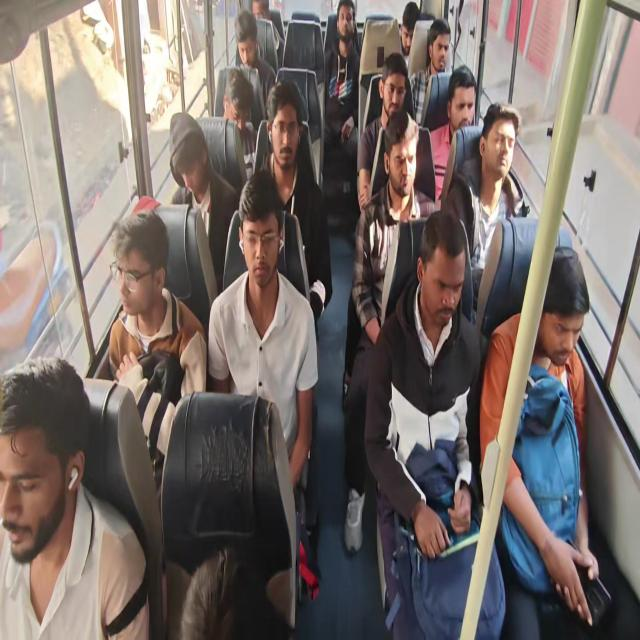person: (0, 341, 92, 552), (103, 213, 181, 317), (409, 214, 470, 332), (534, 230, 584, 368), (232, 174, 288, 291), (160, 105, 214, 192), (379, 106, 426, 205), (477, 88, 519, 184), (263, 76, 309, 160), (443, 63, 481, 130), (378, 54, 414, 116), (422, 20, 457, 74), (229, 12, 262, 69), (397, 0, 423, 58), (333, 0, 362, 48), (248, 0, 276, 25)
